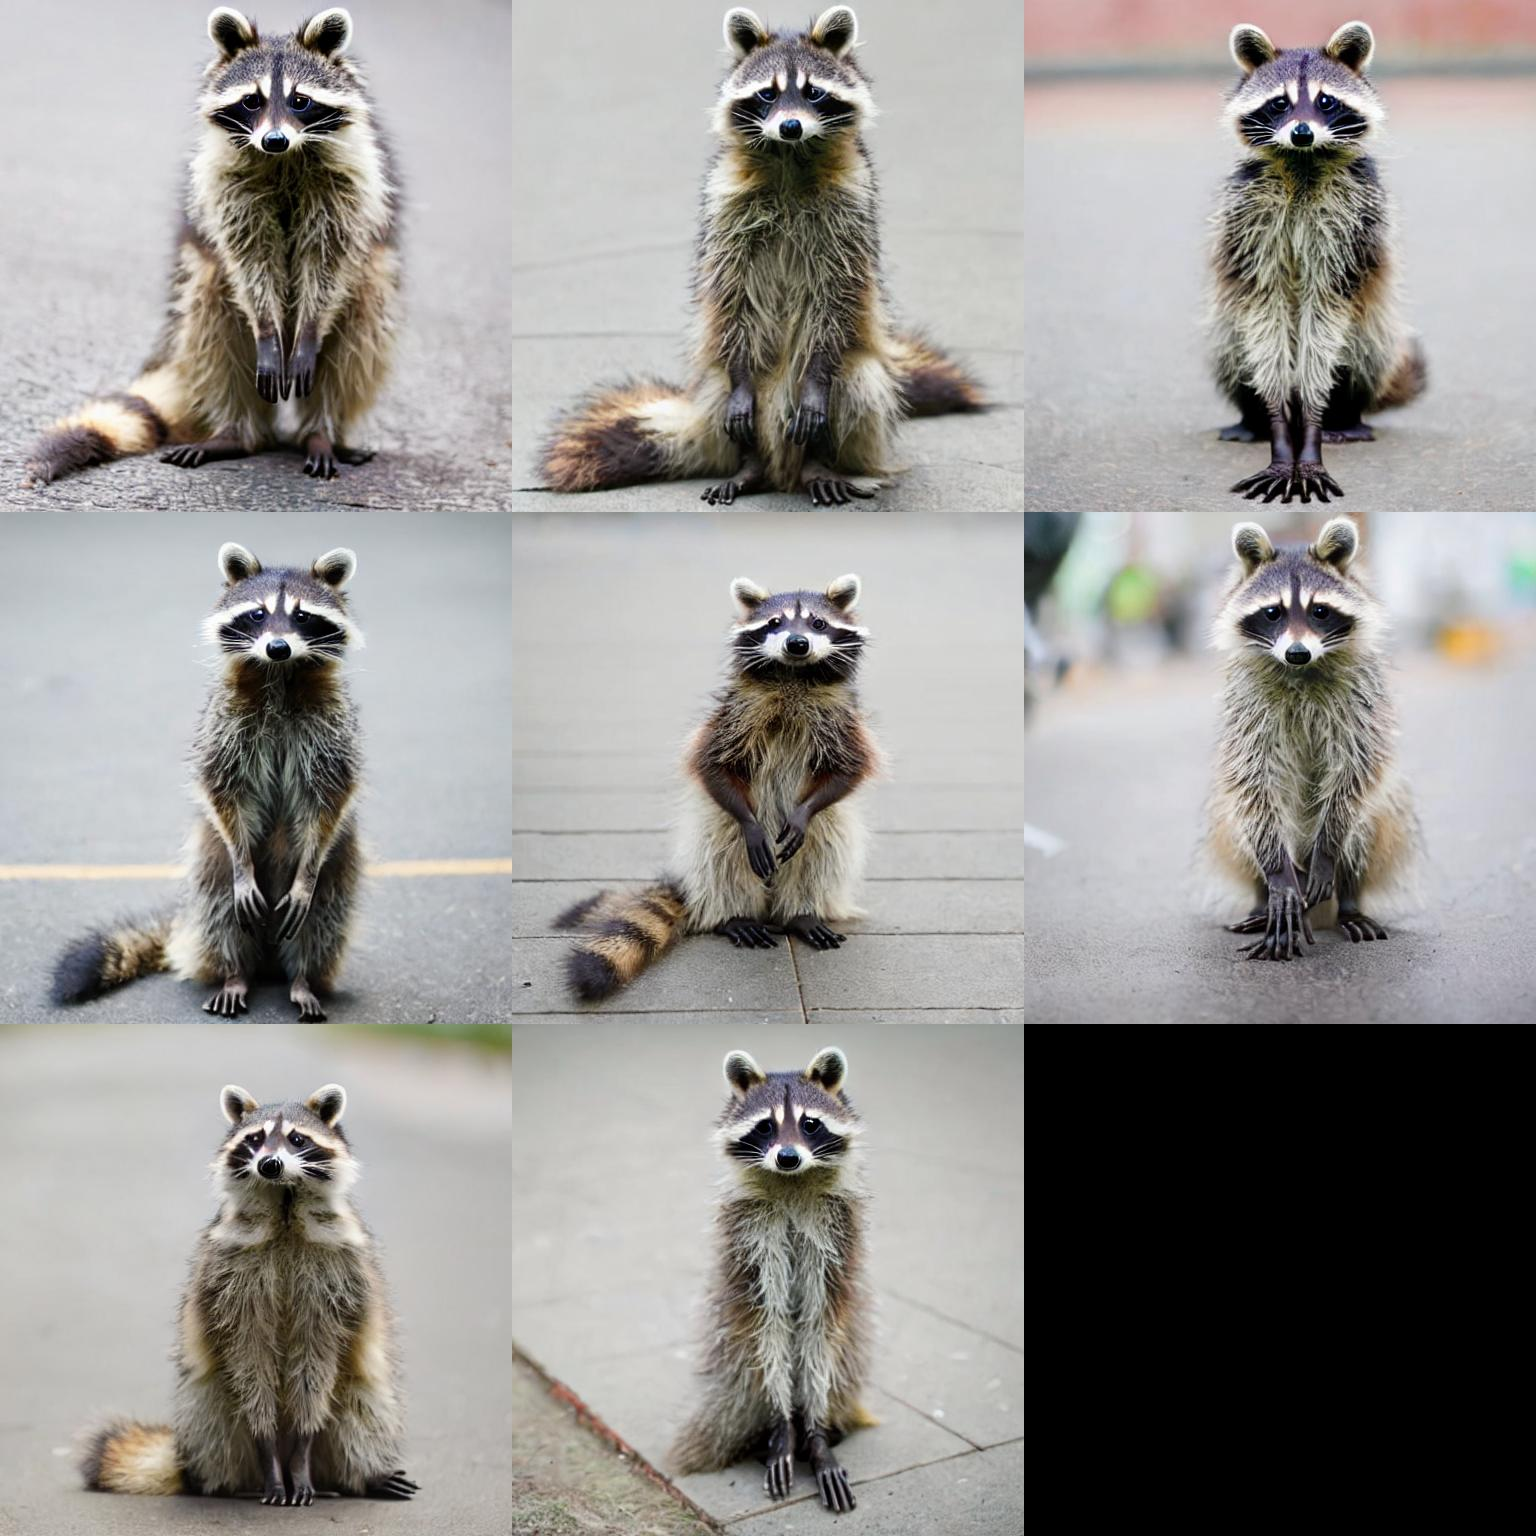raccoon: (25, 6, 421, 489), (543, 3, 903, 502), (48, 543, 377, 1010), (60, 1075, 392, 1518), (567, 563, 881, 1013), (1193, 10, 1428, 499), (650, 1045, 890, 1476), (1200, 520, 1415, 962)
